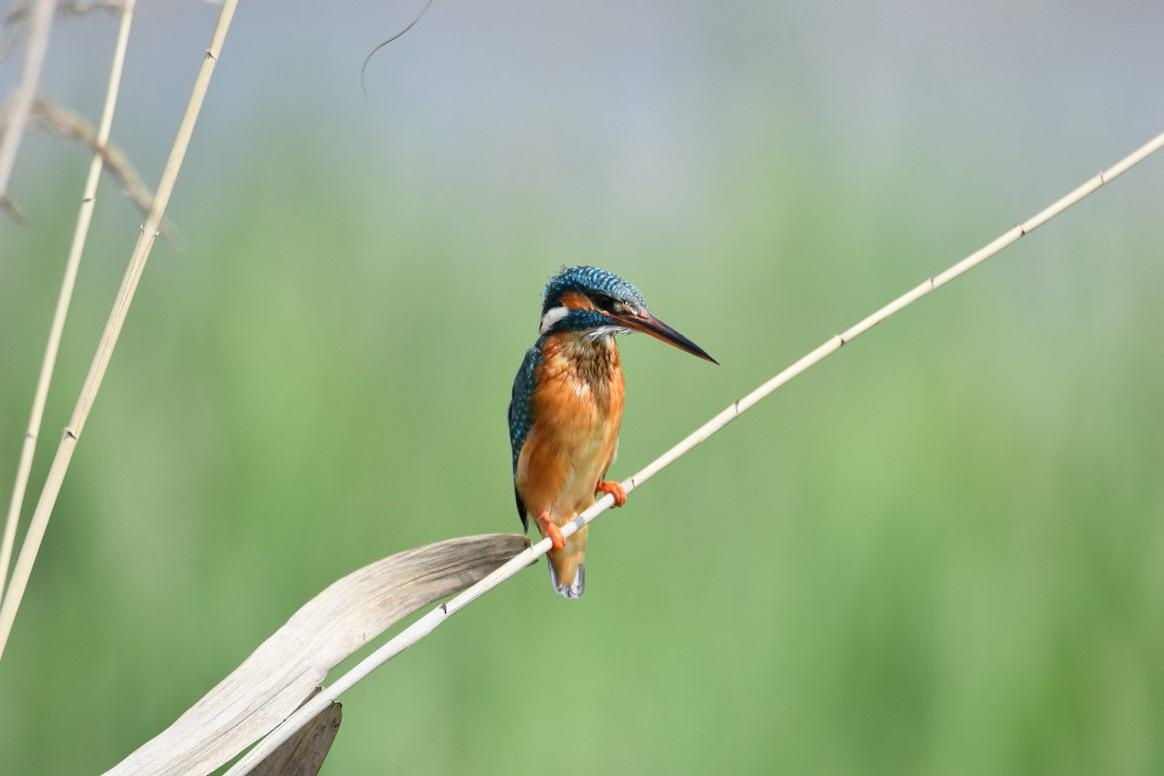kingfisher: (483, 249, 710, 612)
